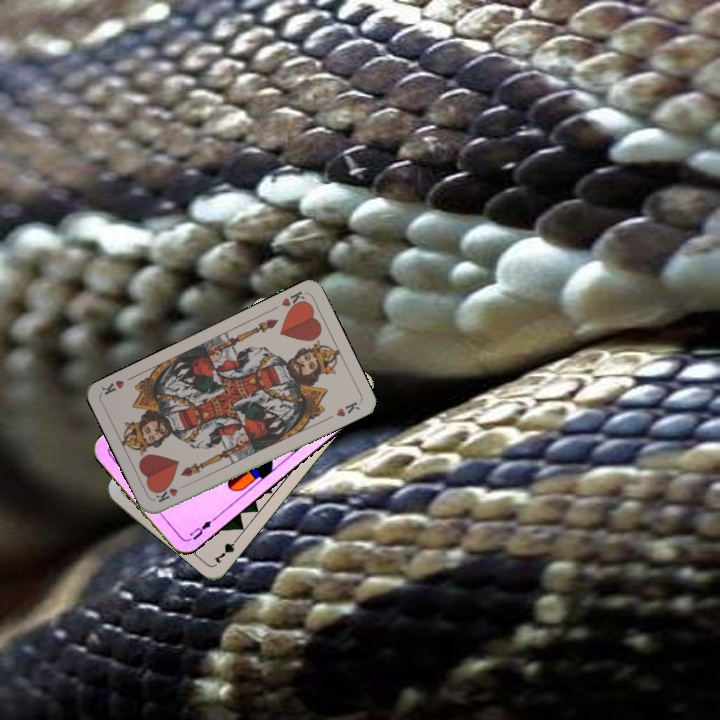EU: (185, 516, 214, 543)
G7: (209, 532, 242, 566)
HK: (151, 480, 190, 505), (277, 287, 310, 314)
